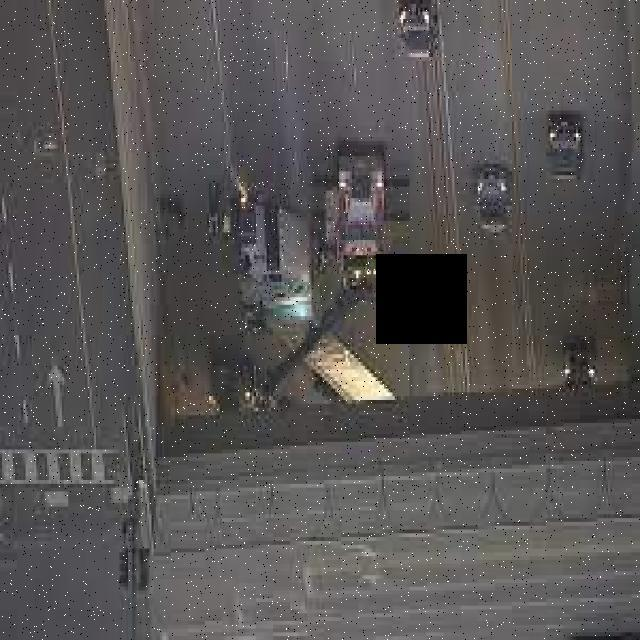severe: (232, 192, 417, 421)
